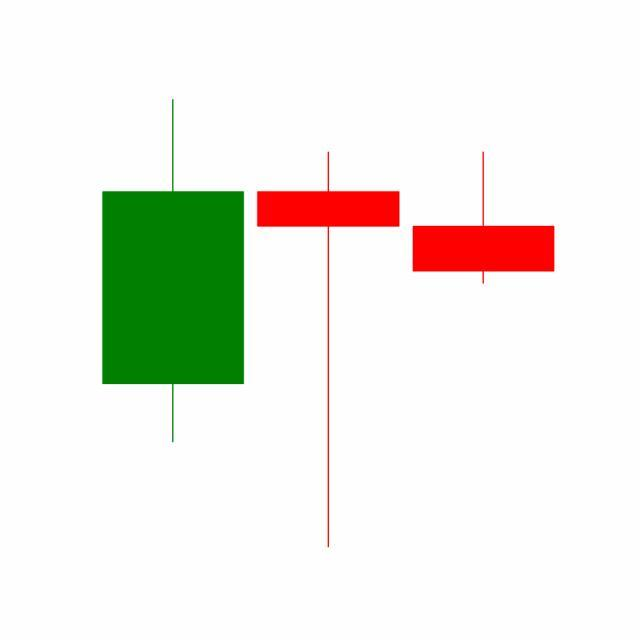Spinning Top: (250, 148, 407, 553)
